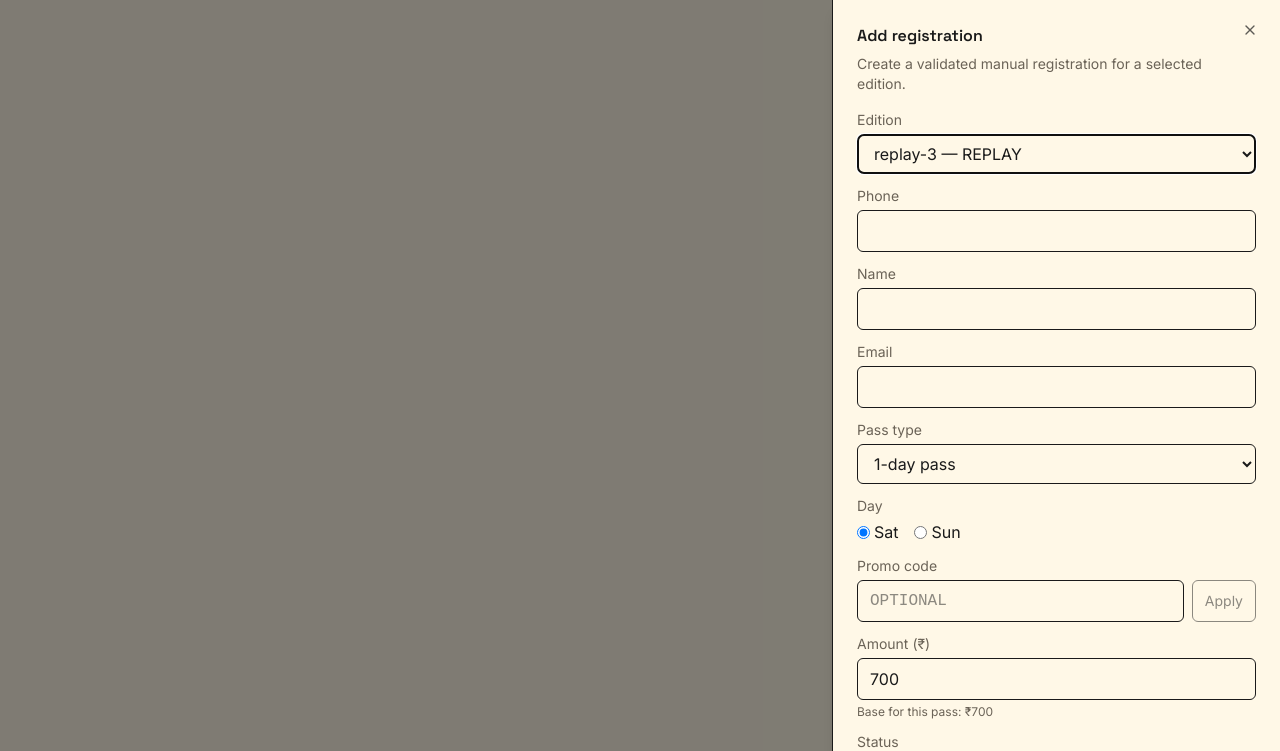
Scenario: drops an applied code when the pass type changes
Type "EARLYBIRD" into the field named "Promo code" at (1020, 601), box [857, 580, 1184, 622]
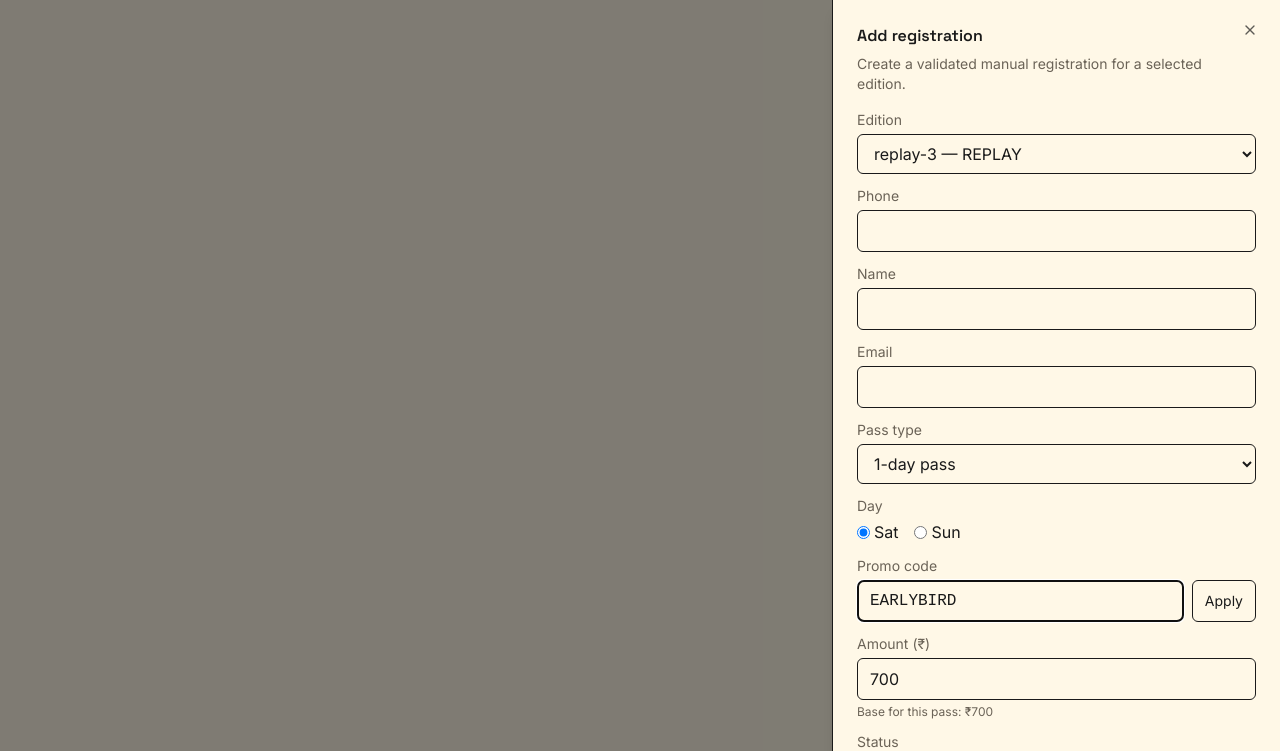
Click the button "Apply" at (1224, 601), box [1192, 580, 1256, 622]
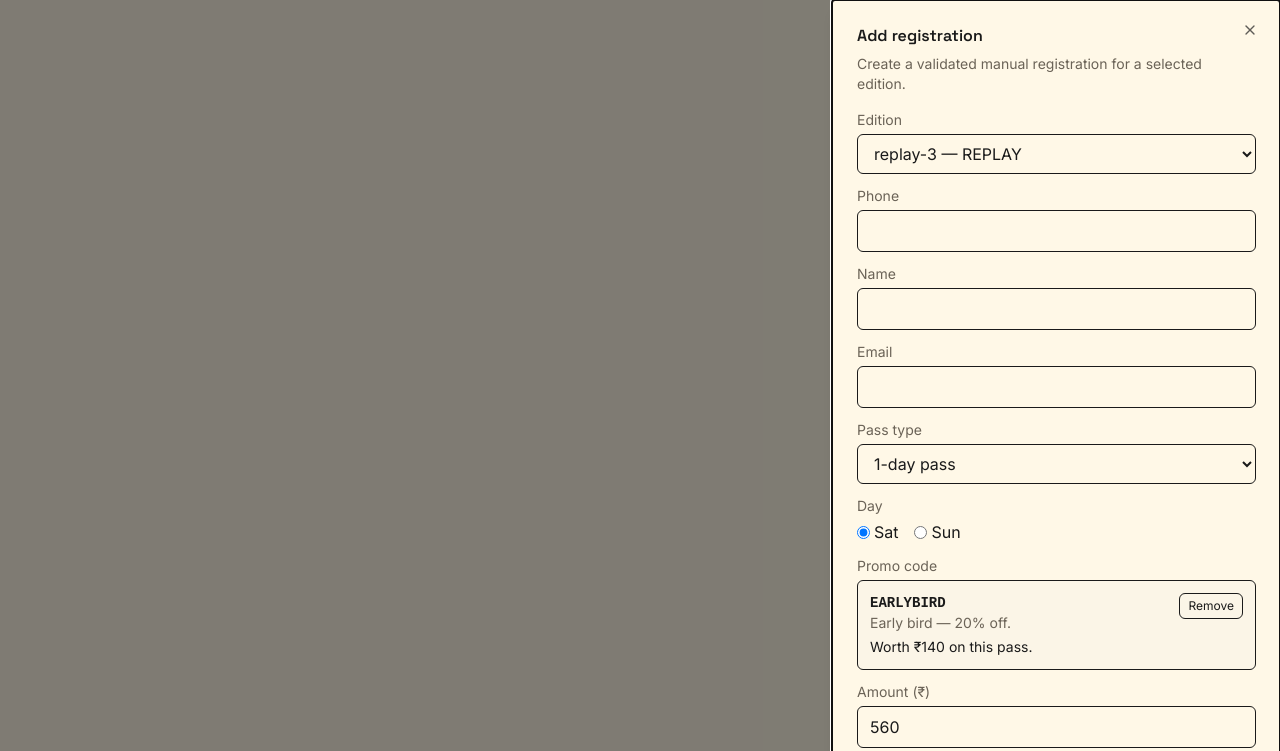
Now the text "Early bird — 20% off." is shown, box [870, 613, 1032, 633]
Select "2-day pass" in the dropdown named "Pass type" at (1056, 464), box [857, 444, 1256, 484]
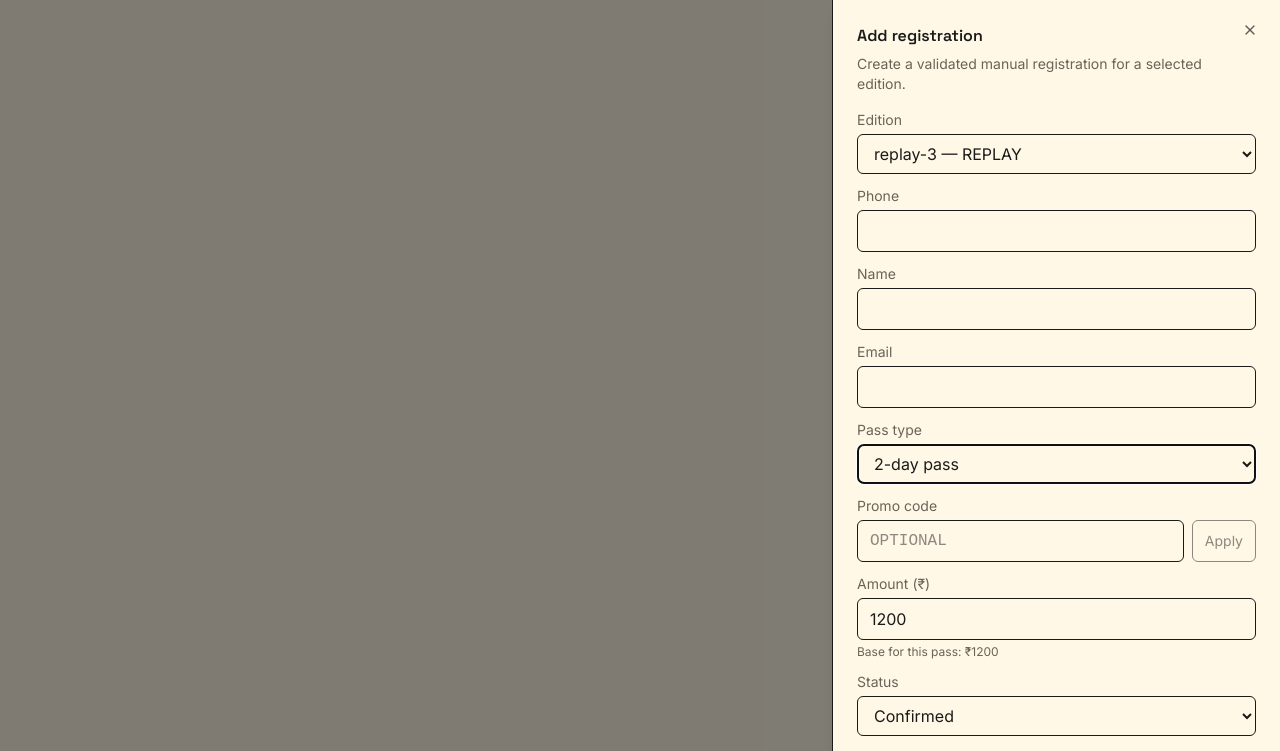
Now the text "Early bird — 20% off." is gone
Now the number field named "Amount" holds "1200", box [857, 598, 1256, 640]
